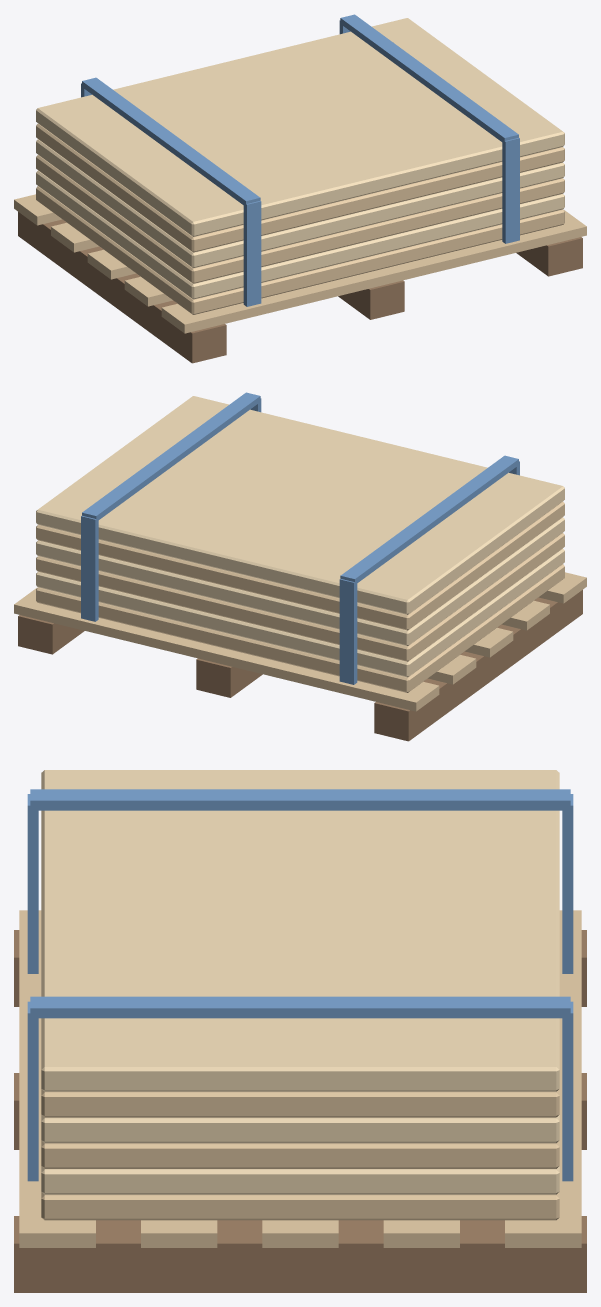
Rendered from PanelPiece.fbx.
3 renders of one model, top to bottom at view 1: azimuth 30°, elevation 25°; view 2: azimuth 150°, elevation 25°; view 3: azimuth 270°, elevation 25°, orthographic. The views are drawn at different scales.
Visible parts, largest first — view 1: PanelPiece_Mesh; view 2: PanelPiece_Mesh; view 3: PanelPiece_Mesh.
Part boxes in pixels (x1,y1,x2,y2): PanelPiece_Mesh: (14, 14, 586, 363); PanelPiece_Mesh: (14, 392, 586, 741); PanelPiece_Mesh: (14, 770, 586, 1292).
Size of the model in its own units: 1.4 by 0.48 by 1.05.
